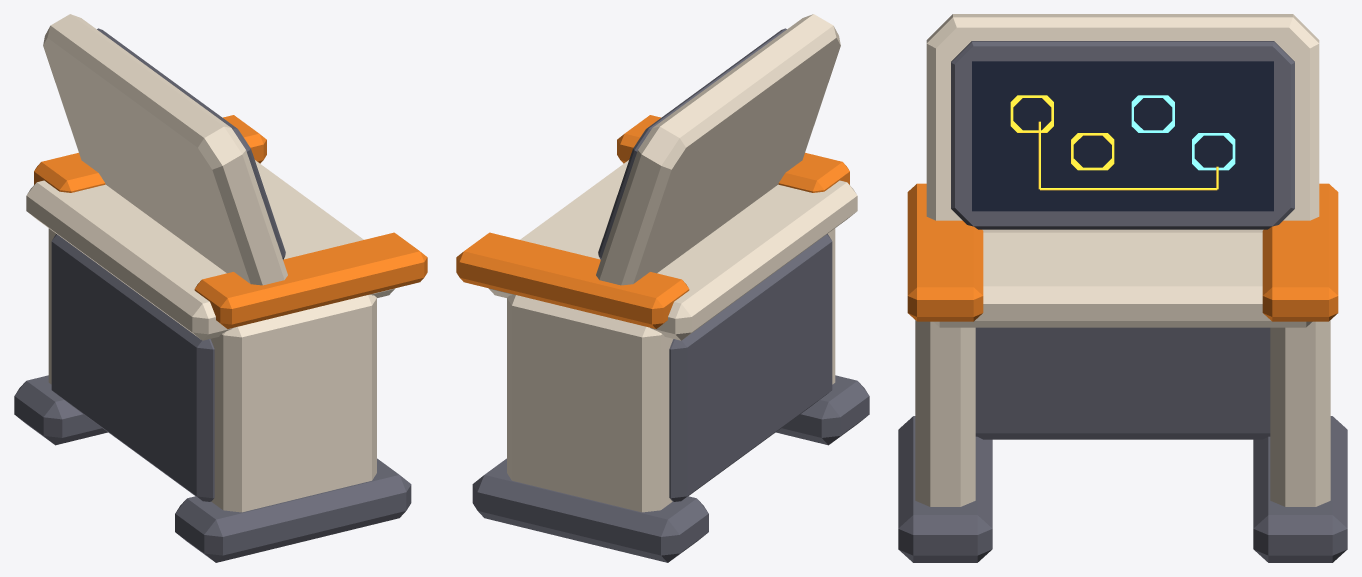
Rendered from asset.glb.
3 renders of one model, left to right at view 1: azimuth 30°, elevation 25°; view 2: azimuth 150°, elevation 25°; view 3: azimuth 270°, elevation 25°, orthographic. The views are drawn at different scales.
Parts seen in each view (by area): view 1: console-station_smooth-structure, console-station_smooth-structure_structure-gray, Ivory screen housing, console-station_accent-paint, Slate screen bezel; view 2: console-station_smooth-structure, console-station_smooth-structure_structure-gray, Ivory screen housing, console-station_accent-paint, Slate screen bezel; view 3: console-station_smooth-structure, console-station_smooth-structure_structure-gray, screen_anchor, Ivory screen housing, Slate screen bezel, console-station_accent-paint, display_emissive-warm, display_emissive-cool.
Boxes of the visible parts, <box> form: console-station_smooth-structure: <box>26,160,394,512</box>; console-station_smooth-structure_structure-gray: <box>14,234,411,562</box>; Ivory screen housing: <box>43,14,287,285</box>; console-station_accent-paint: <box>34,115,427,328</box>; Slate screen bezel: <box>97,28,285,259</box>; console-station_smooth-structure: <box>489,160,857,512</box>; console-station_smooth-structure_structure-gray: <box>472,234,869,562</box>; Ivory screen housing: <box>596,14,840,285</box>; console-station_accent-paint: <box>456,115,849,328</box>; Slate screen bezel: <box>598,28,786,259</box>; console-station_smooth-structure: <box>915,232,1330,506</box>; console-station_smooth-structure_structure-gray: <box>898,327,1347,562</box>; screen_anchor: <box>972,61,1273,211</box>; Ivory screen housing: <box>926,14,1319,232</box>; Slate screen bezel: <box>951,41,1294,229</box>; console-station_accent-paint: <box>907,183,1338,321</box>; display_emissive-warm: <box>1010,95,1218,190</box>; display_emissive-cool: <box>1131,95,1235,170</box>.
Size of the model in its own units: 0.76 by 1.35 by 1.19.
